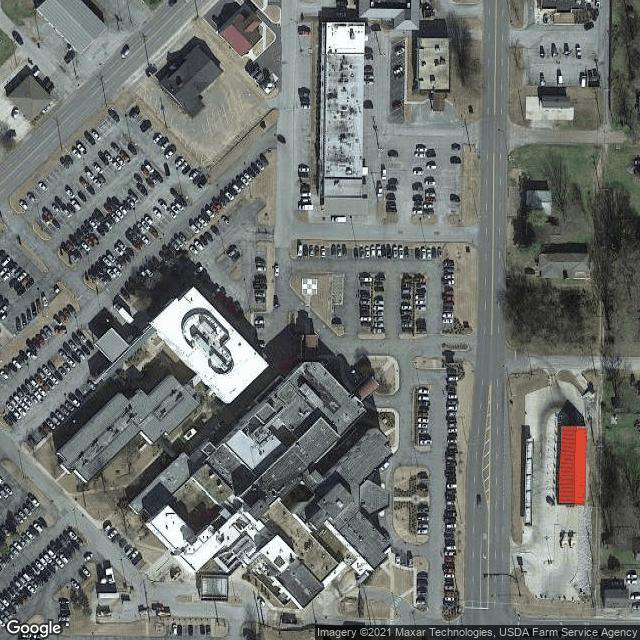Helipad: (298, 275, 319, 298)
